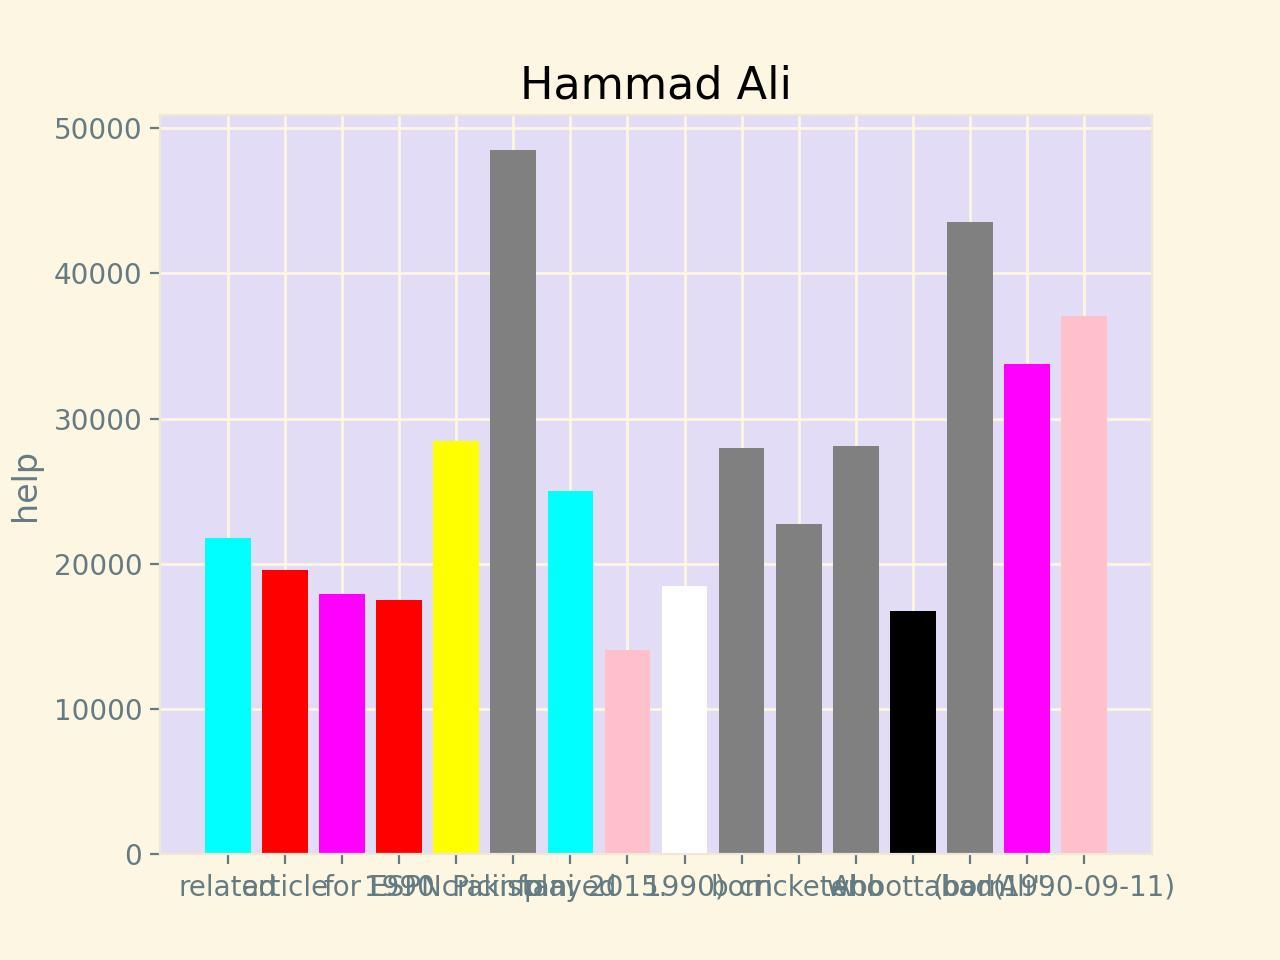axis: (9, 118, 142, 871)
rectangle: (491, 150, 536, 854), (947, 222, 993, 854), (1061, 316, 1107, 854), (1004, 363, 1050, 854), (833, 447, 879, 854), (719, 449, 765, 854), (433, 441, 479, 854), (547, 491, 594, 854), (775, 524, 821, 854), (205, 537, 251, 854), (262, 570, 308, 854), (661, 586, 708, 854), (376, 600, 422, 854), (319, 595, 365, 854), (890, 611, 936, 854), (605, 650, 650, 854)
